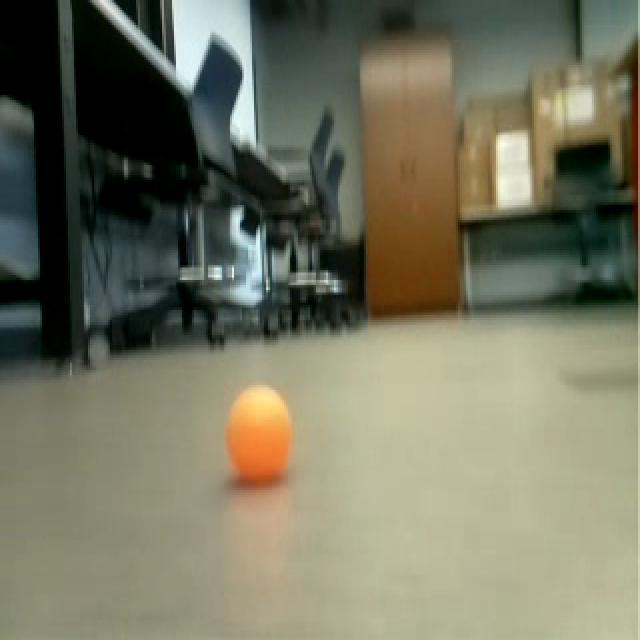oball: (221, 376, 300, 481)
